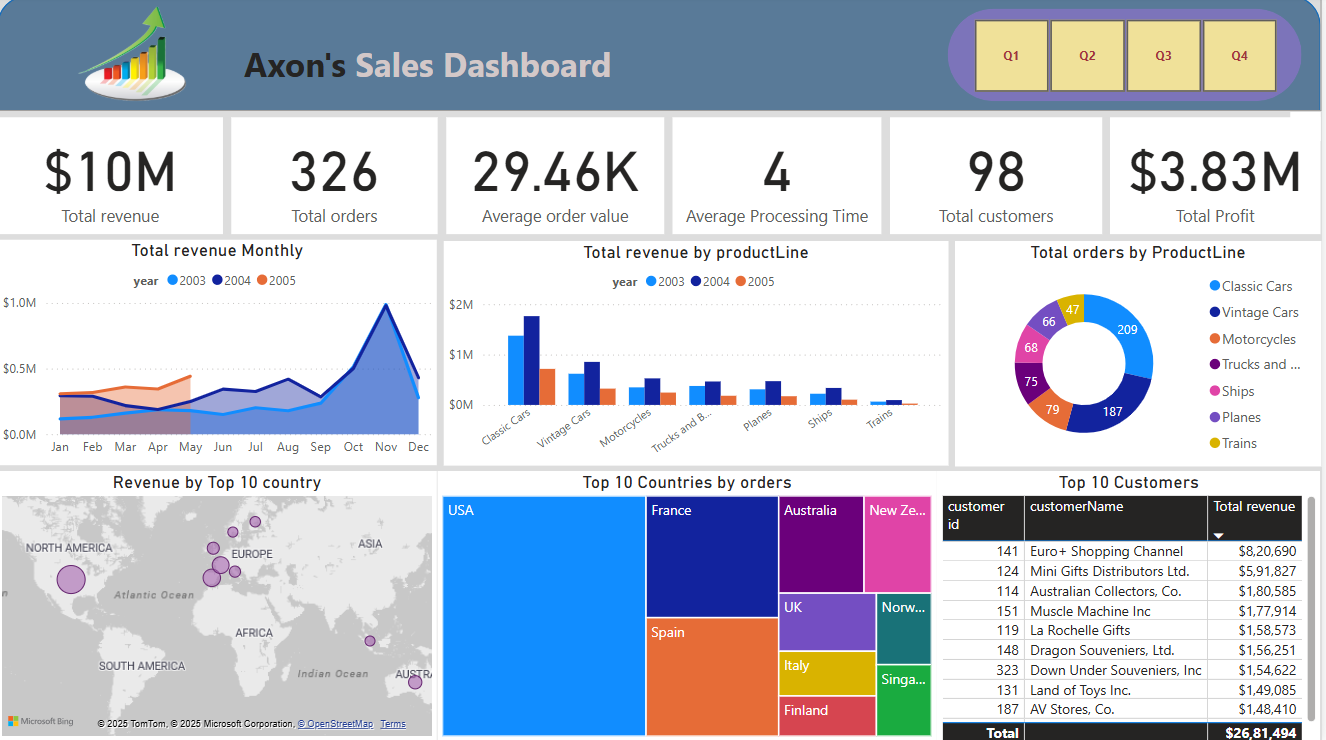

The page's visual inventory and layout, read from the dashboard file:
{"tool":"powerbi","page":{"name":"Page 1","canvas":[1280,720],"ordinal":0},"visuals":[{"type":"shape","box":[2.9,0,1276.8,111.1],"z":0},{"type":"image","box":[36.1,0,190.4,111.1],"z":1000},{"type":"textbox","box":[199.1,39,437.2,60.6],"z":2000},{"type":"card","fields":{"Values":["orderdetails.total revenue"]},"box":[2.9,116.9,217.9,112.5],"z":3000},{"type":"card","fields":{"Values":["orderdetails.Total orders"]},"box":[228.5,117.1,199.1,112.5],"z":4000},{"type":"card","fields":{"Values":["orderdetails.Average order value"]},"box":[435.4,117.1,210.6,112.5],"z":5000},{"type":"card","fields":{"Values":["orders.Average Processing Time"]},"box":[653.9,116.9,202,112.5],"z":6000},{"type":"card","fields":{"Values":["customers.Total customers"]},"box":[863.6,116.9,204.9,112.5],"z":7000},{"type":"card","fields":{"Values":["products.Totla Profit"]},"box":[1076.3,116.9,203.4,112.5],"z":8000},{"type":"areaChart","title":"Total revenue Monthly","fields":{"Category":["dimdate.month name"],"Y":["orderdetails.Total revenue"],"Series":["dimdate.year"]},"box":[2.9,235.2,424.2,217.9],"z":9000},{"type":"clusteredColumnChart","title":"Total revenue by productLine","fields":{"Y":["orderdetails.Total revenue"],"Category":["products.productLine"],"Series":["dimdate.year"]},"box":[433.2,236.6,487,216.4],"z":10000},{"type":"donutChart","title":"Total orders by ProductLine","fields":{"Category":["products.productLine"],"Y":["orderdetails.total orders by productline"]},"box":[926.3,236.6,353.5,217.9],"z":11000},{"type":"treemap","title":"Top 10 Countries by orders","fields":{"Values":["orderdetails.Total orders"],"Group":["customers.country"]},"box":[427.1,458.8,481.9,261.1],"z":13000},{"type":"map","title":"Revenue by Top 10 country","fields":{"Size":["orderdetails.Total revenue"],"Category":["customers.country"]},"box":[2.9,458.8,424.2,261.1],"z":14000},{"type":"shape","box":[919,11.5,341.9,89.5],"z":15000},{"type":"slicer","fields":{"Values":["dimdate.Date Hierarchy.qtr"]},"box":[919,15.9,341.9,83.7],"z":16000},{"type":"tableEx","title":"Top 10 Customers","fields":{"Values":["orders.customerNumber","customers.customerName","orderdetails.Total revenue"]},"box":[908.9,458.8,370.8,261.1],"z":16001}]}

Visuals, with their boxes in screenshot pixels (x1, y1, x2, y2), scaled from the page's 1280x720 canvas onto the 1326x740 screenshot:
shape: left=3, top=0, right=1325, bottom=114
image: left=37, top=0, right=235, bottom=114
textbox: left=206, top=40, right=659, bottom=102
card - orderdetails.total revenue: left=3, top=120, right=229, bottom=236
card - orderdetails.Total orders: left=237, top=120, right=443, bottom=236
card - orderdetails.Average order value: left=451, top=120, right=669, bottom=236
card - orders.Average Processing Time: left=677, top=120, right=887, bottom=236
card - customers.Total customers: left=895, top=120, right=1107, bottom=236
card - products.Totla Profit: left=1115, top=120, right=1325, bottom=236
"Total revenue Monthly" areaChart: left=3, top=242, right=442, bottom=466
"Total revenue by productLine" clusteredColumnChart: left=449, top=243, right=953, bottom=466
"Total orders by ProductLine" donutChart: left=960, top=243, right=1325, bottom=467
"Top 10 Countries by orders" treemap: left=442, top=472, right=942, bottom=739
"Revenue by Top 10 country" map: left=3, top=472, right=442, bottom=739
shape: left=952, top=12, right=1306, bottom=104
slicer - dimdate.Date Hierarchy.qtr: left=952, top=16, right=1306, bottom=102
"Top 10 Customers" tableEx: left=942, top=472, right=1325, bottom=739
